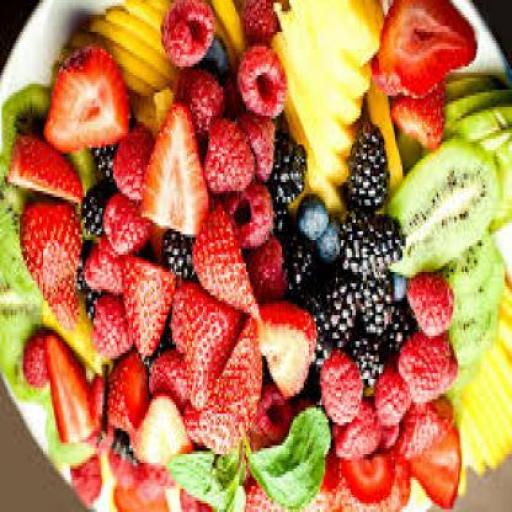biodegradable: (384, 136, 500, 280), (456, 282, 510, 500), (0, 86, 96, 201), (412, 133, 510, 244), (270, 31, 353, 162), (134, 102, 208, 243), (42, 44, 128, 159), (284, 2, 361, 130), (168, 284, 242, 416), (378, 3, 474, 102), (198, 318, 259, 466), (248, 408, 329, 511), (190, 208, 257, 324), (18, 209, 80, 333), (284, 99, 345, 220), (62, 34, 172, 98), (300, 3, 370, 102), (183, 292, 240, 413), (42, 292, 113, 385), (284, 96, 346, 192), (43, 338, 97, 448), (84, 26, 180, 84), (247, 448, 335, 511), (255, 310, 312, 406), (6, 136, 83, 205), (120, 260, 170, 362), (131, 398, 193, 478), (0, 304, 47, 405), (173, 64, 225, 154), (338, 214, 404, 283), (395, 335, 457, 408), (0, 182, 39, 295), (203, 114, 254, 200), (408, 428, 460, 511), (318, 3, 382, 70), (388, 84, 445, 156), (235, 46, 286, 125), (451, 254, 505, 327), (162, 450, 226, 511), (365, 87, 401, 194), (444, 232, 495, 306), (160, 3, 212, 72), (104, 353, 146, 437), (347, 128, 387, 214), (112, 128, 154, 208), (444, 309, 499, 370), (338, 454, 396, 511), (102, 197, 152, 263), (397, 402, 451, 463), (404, 278, 453, 344), (244, 388, 293, 454), (222, 188, 270, 255), (320, 354, 362, 428), (102, 17, 171, 61), (289, 298, 331, 368), (448, 104, 510, 151), (140, 310, 172, 400), (232, 116, 274, 184), (319, 272, 354, 353), (81, 240, 126, 302), (444, 92, 510, 133), (206, 446, 248, 510), (91, 295, 133, 359), (45, 420, 97, 471), (331, 405, 375, 463), (147, 353, 187, 414), (73, 243, 103, 324), (248, 240, 284, 306), (354, 280, 392, 342), (284, 231, 316, 304), (273, 136, 304, 211), (374, 368, 409, 432), (129, 90, 169, 141), (208, 15, 236, 81), (160, 235, 196, 286), (67, 459, 102, 511), (212, 3, 242, 61), (351, 336, 383, 390), (81, 186, 113, 240), (241, 3, 276, 52), (197, 38, 226, 89), (296, 197, 326, 246), (21, 333, 45, 391), (110, 488, 168, 510), (88, 147, 115, 194), (449, 78, 510, 98), (122, 3, 160, 35), (387, 306, 411, 356), (87, 379, 104, 448), (446, 365, 476, 402), (385, 465, 409, 511), (370, 58, 397, 98), (316, 220, 338, 269), (106, 434, 136, 468), (395, 133, 419, 173), (108, 460, 138, 492), (137, 469, 171, 495), (129, 480, 160, 506), (177, 488, 213, 510), (270, 194, 284, 240), (182, 408, 198, 445), (377, 428, 397, 457), (86, 435, 110, 454), (392, 283, 402, 307)
